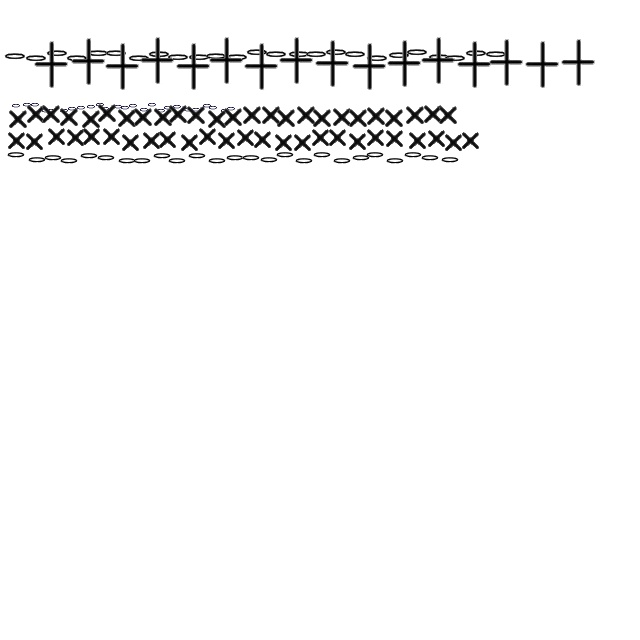chain: (3, 52, 27, 62), (24, 54, 48, 64), (65, 54, 89, 64), (127, 54, 151, 64), (147, 50, 171, 60), (204, 52, 228, 62), (245, 48, 269, 58), (264, 50, 288, 60), (287, 50, 311, 60), (304, 50, 328, 60), (324, 48, 348, 58), (343, 50, 367, 60), (365, 54, 389, 64), (405, 48, 429, 58), (443, 54, 467, 64), (484, 50, 508, 60), (45, 50, 69, 58), (86, 50, 110, 58), (104, 50, 128, 58), (166, 54, 190, 62), (187, 54, 211, 62), (225, 54, 249, 62), (387, 52, 411, 60), (427, 54, 451, 62), (464, 50, 488, 58), (6, 151, 26, 159), (27, 156, 47, 164), (43, 154, 63, 162), (59, 157, 79, 165), (79, 152, 99, 160), (96, 154, 116, 162), (117, 157, 137, 165), (132, 157, 152, 165), (152, 152, 172, 160), (167, 157, 187, 165), (187, 152, 207, 160), (207, 157, 227, 165), (225, 154, 245, 162), (241, 154, 261, 162), (259, 156, 279, 164), (275, 151, 295, 159), (294, 157, 314, 165), (312, 151, 332, 159), (332, 157, 352, 165), (351, 154, 371, 162), (365, 151, 385, 159), (385, 157, 405, 165), (403, 151, 423, 159), (420, 154, 440, 162), (440, 156, 460, 164), (11, 102, 21, 110), (76, 104, 86, 112), (120, 104, 130, 112), (128, 102, 138, 110), (139, 106, 149, 114), (163, 104, 173, 112), (183, 106, 193, 114), (191, 106, 201, 114), (202, 102, 212, 110), (208, 104, 218, 112), (22, 102, 32, 108), (30, 102, 40, 108), (41, 108, 51, 114), (46, 108, 56, 114), (59, 108, 69, 114), (67, 106, 77, 112), (86, 104, 96, 110), (95, 102, 105, 108), (100, 106, 110, 112), (113, 104, 123, 110), (147, 102, 157, 108), (156, 108, 166, 114), (172, 104, 182, 110), (220, 108, 230, 114), (226, 106, 236, 112)
double: (32, 41, 70, 89), (138, 37, 176, 85), (174, 43, 212, 91), (242, 43, 280, 91), (350, 43, 388, 91), (70, 38, 106, 86), (104, 43, 140, 91), (208, 37, 244, 85), (278, 37, 314, 85), (314, 40, 350, 88), (386, 40, 422, 88), (420, 37, 456, 85), (456, 41, 492, 89), (488, 39, 524, 87), (524, 41, 560, 89), (560, 39, 596, 87), (25, 102, 47, 126), (40, 102, 62, 126), (116, 106, 138, 130), (167, 102, 189, 126), (275, 106, 297, 130), (311, 106, 333, 130), (347, 106, 369, 130), (365, 104, 387, 128), (383, 106, 405, 130), (422, 102, 444, 126), (7, 108, 29, 130), (58, 106, 80, 128), (80, 108, 102, 130), (96, 102, 118, 124), (132, 106, 154, 128), (152, 106, 174, 128), (185, 104, 207, 126), (206, 108, 228, 130), (222, 106, 244, 128), (241, 104, 263, 126), (260, 104, 282, 126), (295, 104, 317, 126), (331, 106, 353, 128), (404, 104, 426, 126), (437, 104, 459, 126), (6, 129, 28, 151), (24, 130, 46, 152), (46, 125, 68, 147), (120, 131, 142, 153), (216, 129, 238, 151), (252, 128, 274, 150), (292, 131, 314, 153), (310, 126, 332, 148), (384, 127, 406, 149), (426, 127, 448, 149), (460, 129, 482, 151), (66, 126, 86, 148), (82, 125, 102, 147), (102, 125, 122, 147), (142, 129, 162, 151), (158, 128, 178, 150), (180, 131, 200, 153), (198, 125, 218, 147), (236, 126, 256, 148), (274, 131, 294, 153), (328, 126, 348, 148), (348, 130, 368, 152), (366, 126, 386, 148), (408, 129, 428, 151), (444, 131, 464, 153)
